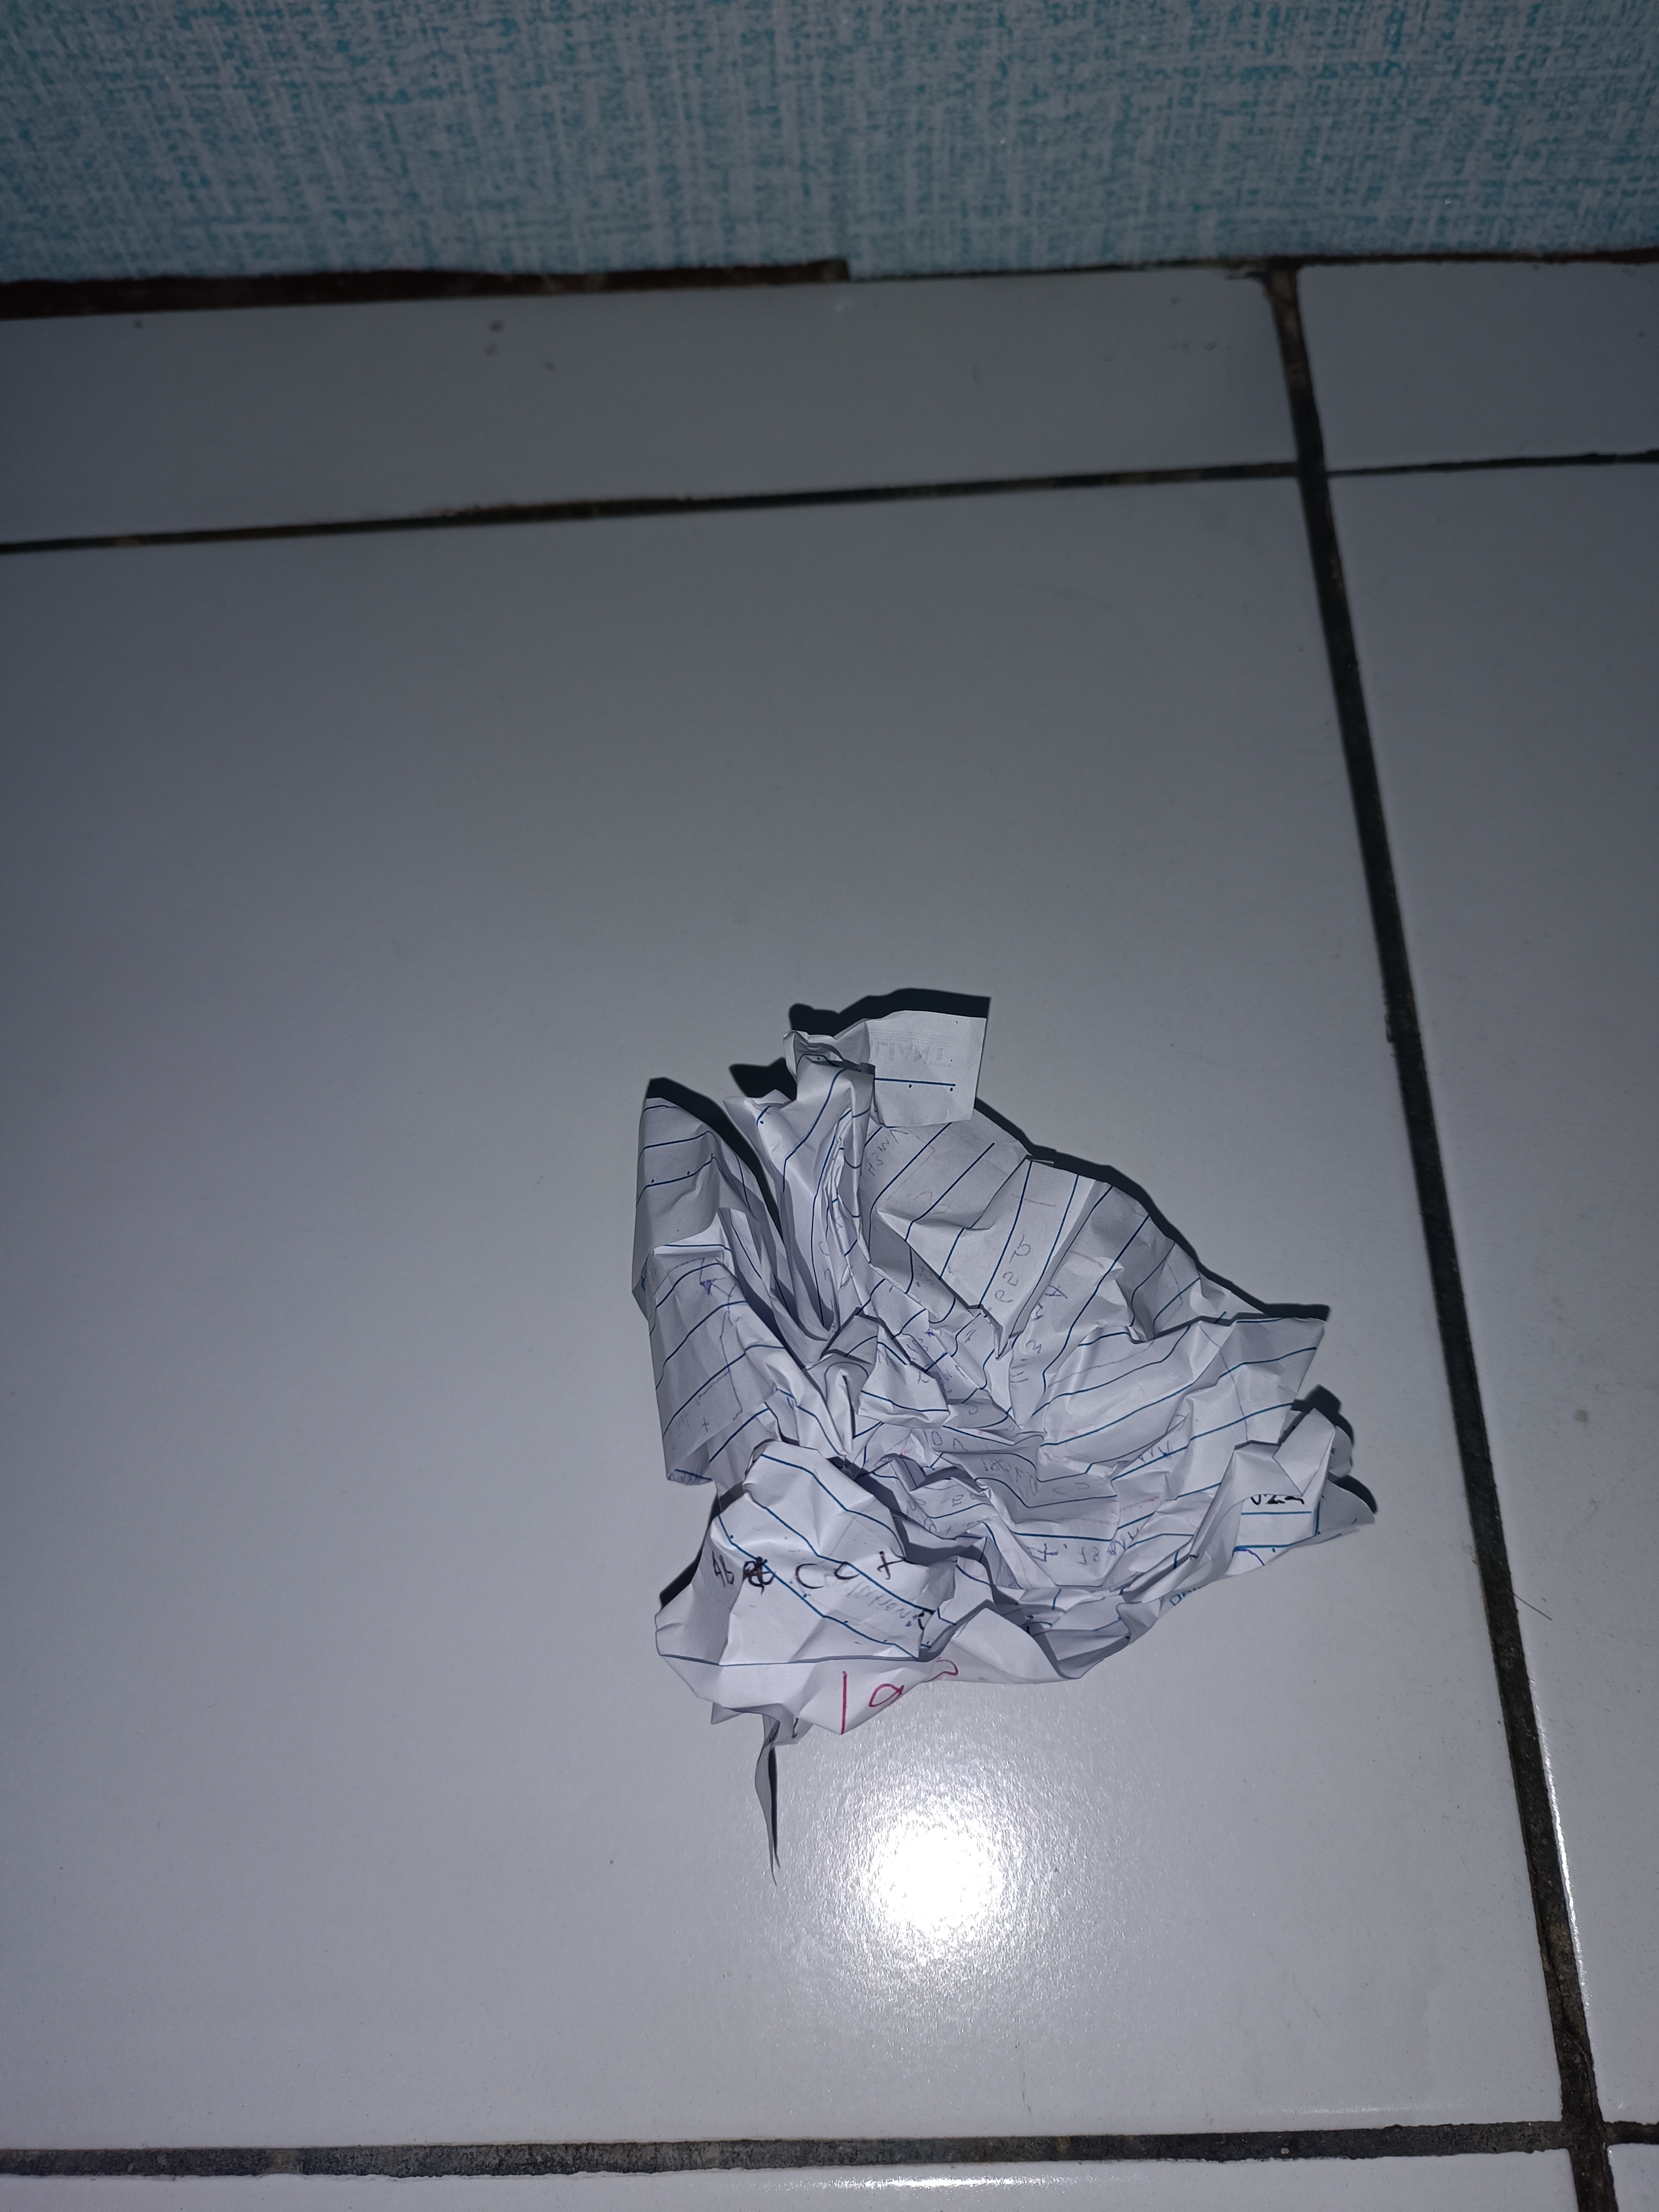Paper: (582, 885, 1481, 1792)
